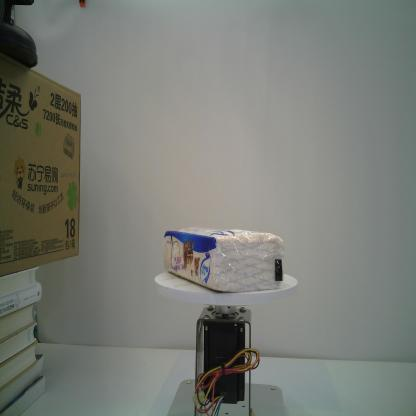Tissue: (160, 221, 286, 296)
